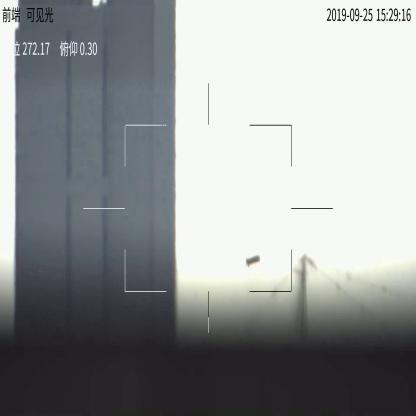uav: (245, 253, 261, 268)
